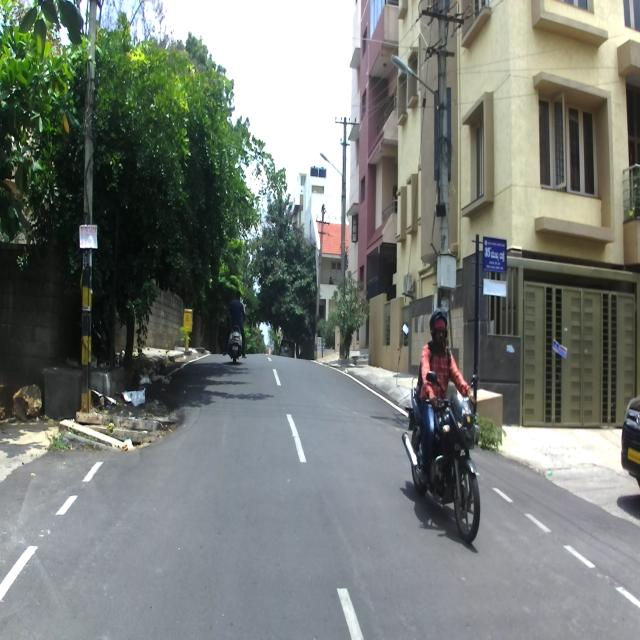electric pole ahead at: (76, 0, 102, 432)
motorcycle ahead at: (402, 369, 483, 540)
